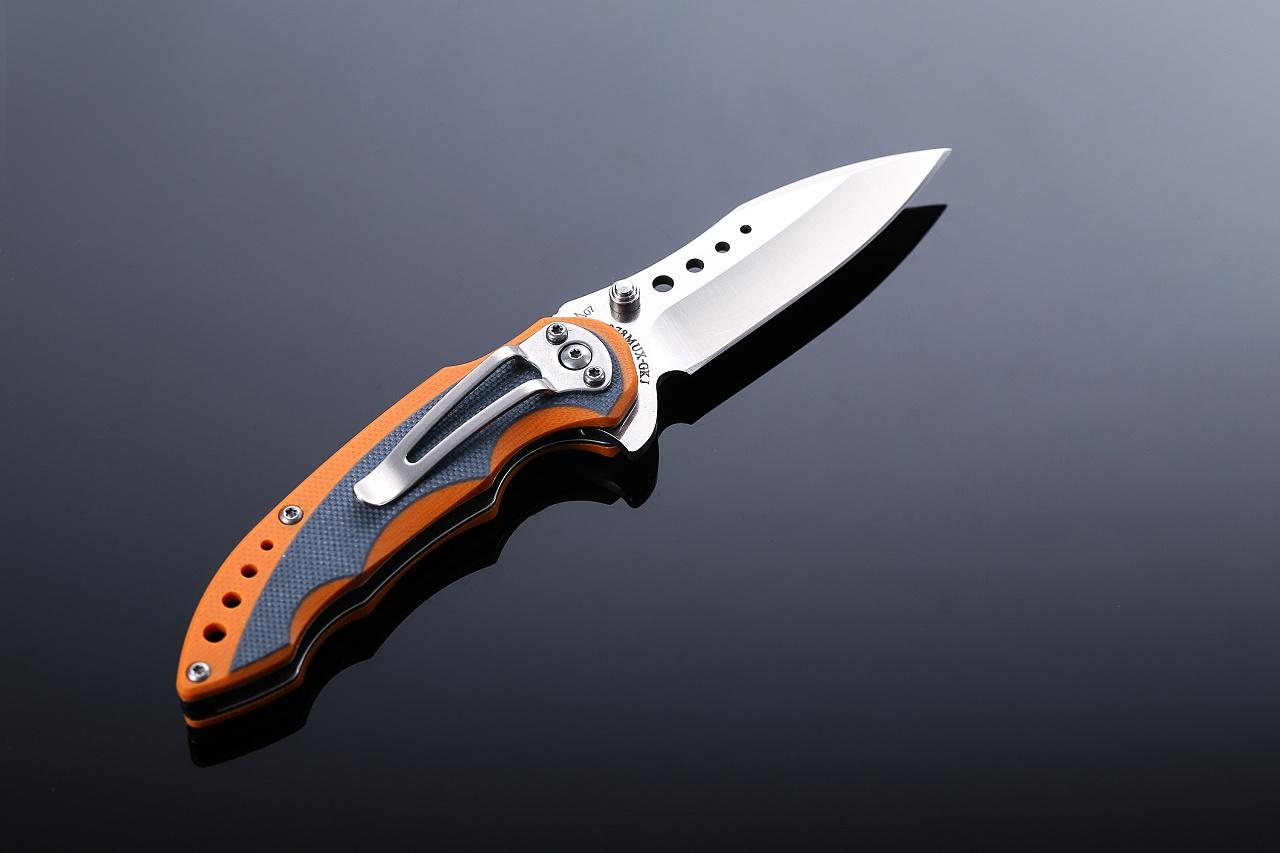knife: (64, 56, 1086, 757)
